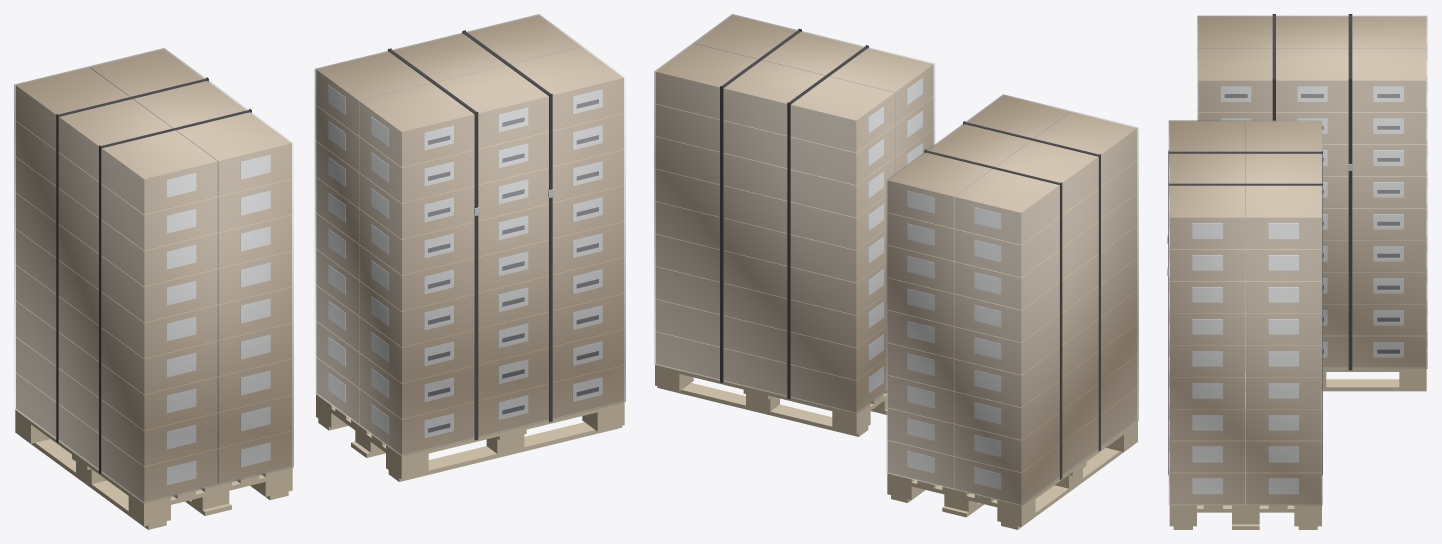
The model's file is PalletizedStacks.fbx.
3 views of the same model, side by side, from view 1: azimuth 30°, elevation 25°; view 2: azimuth 150°, elevation 25°; view 3: azimuth 270°, elevation 25° (orthographic). The views are drawn at different scales.
Visible parts, largest first — view 1: Prop_Palletized_Freight_Stack_A, Prop_Palletized_Freight_Stack_B; view 2: Prop_Palletized_Freight_Stack_B, Prop_Palletized_Freight_Stack_A; view 3: Prop_Palletized_Freight_Stack_A, Prop_Palletized_Freight_Stack_B.
Part boxes in pixels (x1,y1,x2,y2): Prop_Palletized_Freight_Stack_A: (314, 14, 625, 481); Prop_Palletized_Freight_Stack_B: (14, 48, 293, 529); Prop_Palletized_Freight_Stack_B: (886, 94, 1138, 529); Prop_Palletized_Freight_Stack_A: (654, 14, 935, 436); Prop_Palletized_Freight_Stack_A: (1167, 120, 1322, 529); Prop_Palletized_Freight_Stack_B: (1197, 14, 1427, 391).
Bounding box in the file's own units: 251 × 182 × 137.
